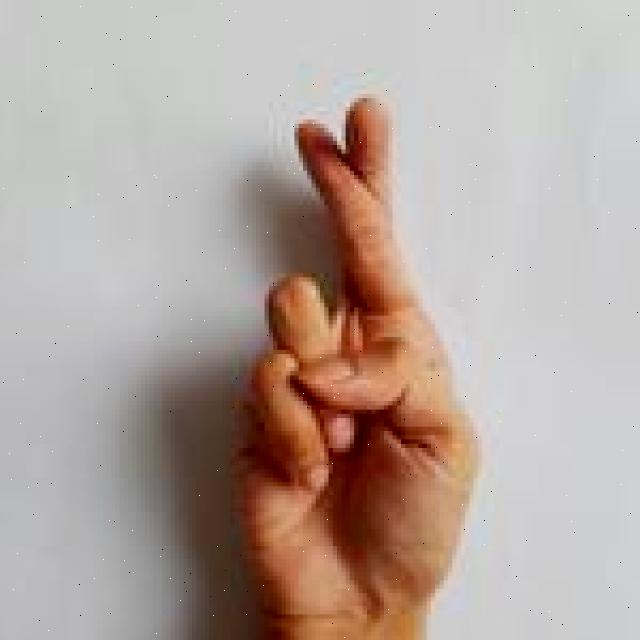R: (221, 81, 496, 640)
